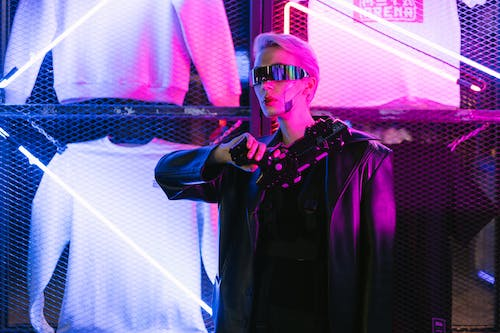gun: (227, 116, 353, 193)
